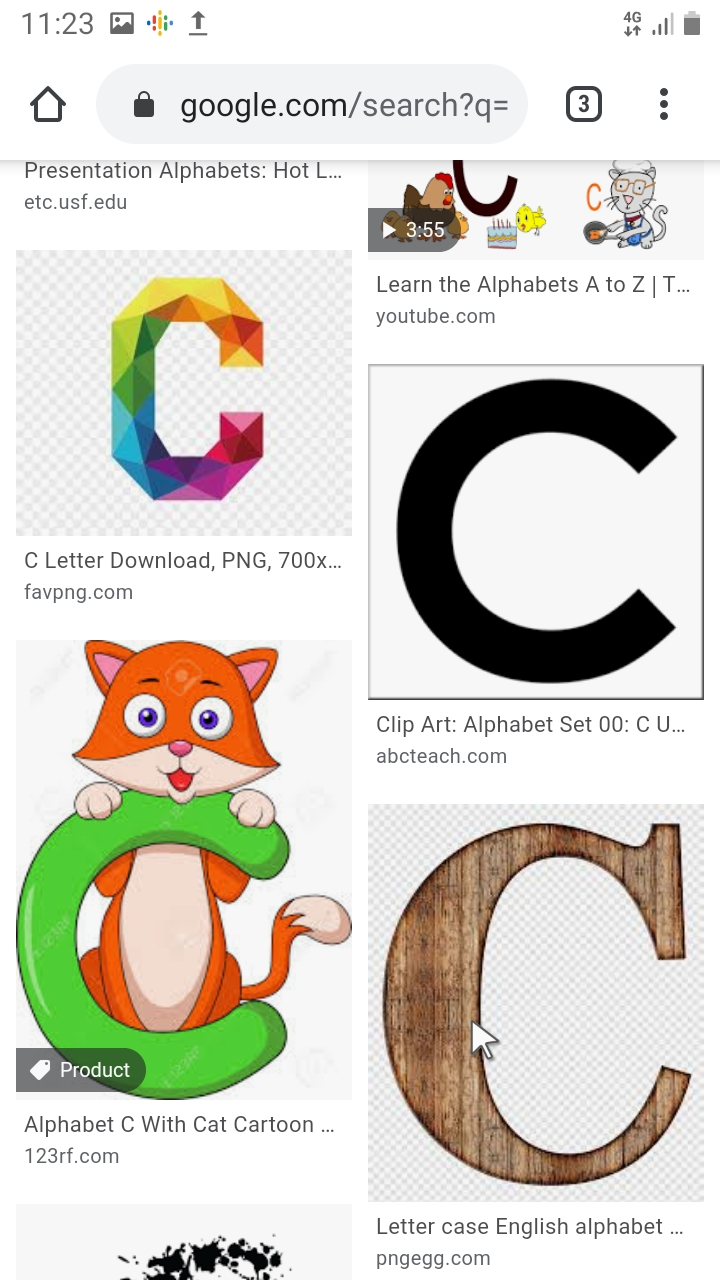zone C: (376, 810, 696, 1204), (10, 772, 313, 1096), (394, 374, 684, 688), (98, 270, 278, 512)
